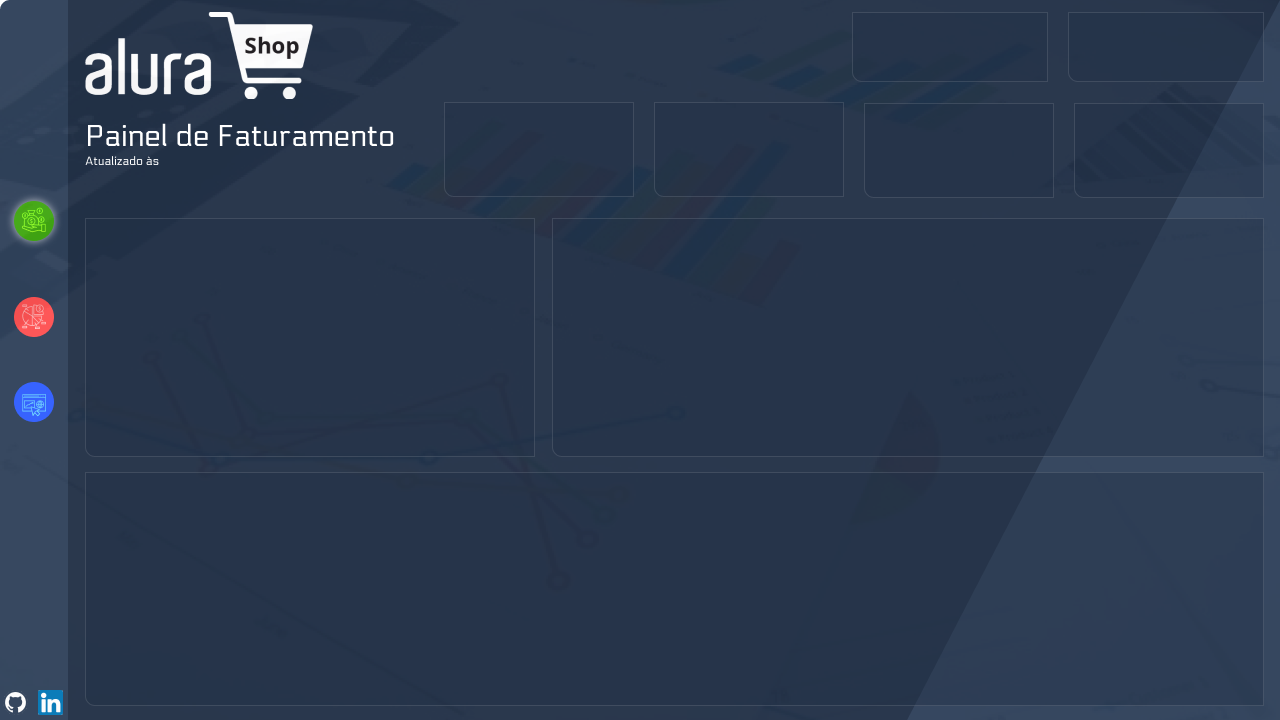

The page's visual inventory and layout, read from the dashboard file:
{"tool":"powerbi","page":{"name":"Faturamento","canvas":[1280,720],"ordinal":1},"visuals":[{"type":"card","fields":{"Values":["Medidas.R$ Ticket Médio Disp"]},"box":[445.7,100.2,185.5,93.2],"z":0},{"type":"card","fields":{"Values":["Medidas.R$ Total Convertido"]},"box":[655.8,100,186.4,93],"z":1000},{"type":"card","fields":{"Values":["Medidas.# Total de Compras Disp"]},"box":[864.2,100,187.3,95],"z":2000},{"type":"card","fields":{"Values":["Medidas.# Total Acessos"]},"box":[1076,100,186.4,95],"z":3000},{"type":"slicer","title":"Período","fields":{"Values":["Dispositivos.Dia"]},"box":[1068.1,10.5,194.3,70.3],"z":4000},{"type":"slicer","fields":{"Values":["Dispositivos.Plataforma do dispositivo"]},"box":[851.9,9.7,199.6,70.3],"z":5000},{"type":"areaChart","fields":{"Y":["Medidas.R$ Total Convertido Disp"],"Category":["Tempo.Date"]},"box":[87.1,470.2,1173,232.6],"z":6000},{"type":"clusteredColumnChart","fields":{"Category":["Dispositivos.Plataforma do dispositivo","Dispositivos.Plataforma","Dispositivos.Colocação"],"Y":["Medidas.R$ Ticket Médio Disp"]},"box":[554.8,220.2,705.3,232.6],"z":7000},{"type":"pieChart","fields":{"Category":["Idade_Genero.Gênero"],"Y":["Medidas.R$ Ticket Médio"]},"box":[87,219.8,444.8,233],"z":8000},{"type":"shape","box":[14.2,289.9,40.7,46.4],"z":9000},{"type":"shape","box":[14.2,378,40.7,46.4],"z":10000},{"type":"image","title":"Home","box":[7.6,10.4,55,46.4],"z":11000},{"type":"image","box":[707,83,83.9,34.7],"z":11001},{"type":"image","box":[898,83,118.6,42.4],"z":11002},{"type":"image","box":[1124.7,85.8,88.7,33.8],"z":11003},{"type":"image","box":[491,77.2,94.5,42.4],"z":11004}]}

Visuals, with their boxes on the page's 1280x720 design canvas (x1, y1, x2, y2). These are canvas units, not pixel positions in the 1280x720 screenshot, which may show the page scaled, cropped or inside an application window:
card - Medidas.R$ Ticket Médio Disp: l=446, t=100, r=631, b=193
card - Medidas.R$ Total Convertido: l=656, t=100, r=842, b=193
card - Medidas.# Total de Compras Disp: l=864, t=100, r=1052, b=195
card - Medidas.# Total Acessos: l=1076, t=100, r=1262, b=195
"Período" slicer: l=1068, t=10, r=1262, b=81
slicer - Dispositivos.Plataforma do dispositivo: l=852, t=10, r=1052, b=80
areaChart - Medidas.R$ Total Convertido Disp x Tempo.Date: l=87, t=470, r=1260, b=703
clusteredColumnChart - Dispositivos.Plataforma do dispositivo x Dispositivos.Plataforma: l=555, t=220, r=1260, b=453
pieChart - Idade_Genero.Gênero x Medidas.R$ Ticket Médio: l=87, t=220, r=532, b=453
shape: l=14, t=290, r=55, b=336
shape: l=14, t=378, r=55, b=424
"Home" image: l=8, t=10, r=63, b=57
image: l=707, t=83, r=791, b=118
image: l=898, t=83, r=1017, b=125
image: l=1125, t=86, r=1213, b=120
image: l=491, t=77, r=586, b=120
